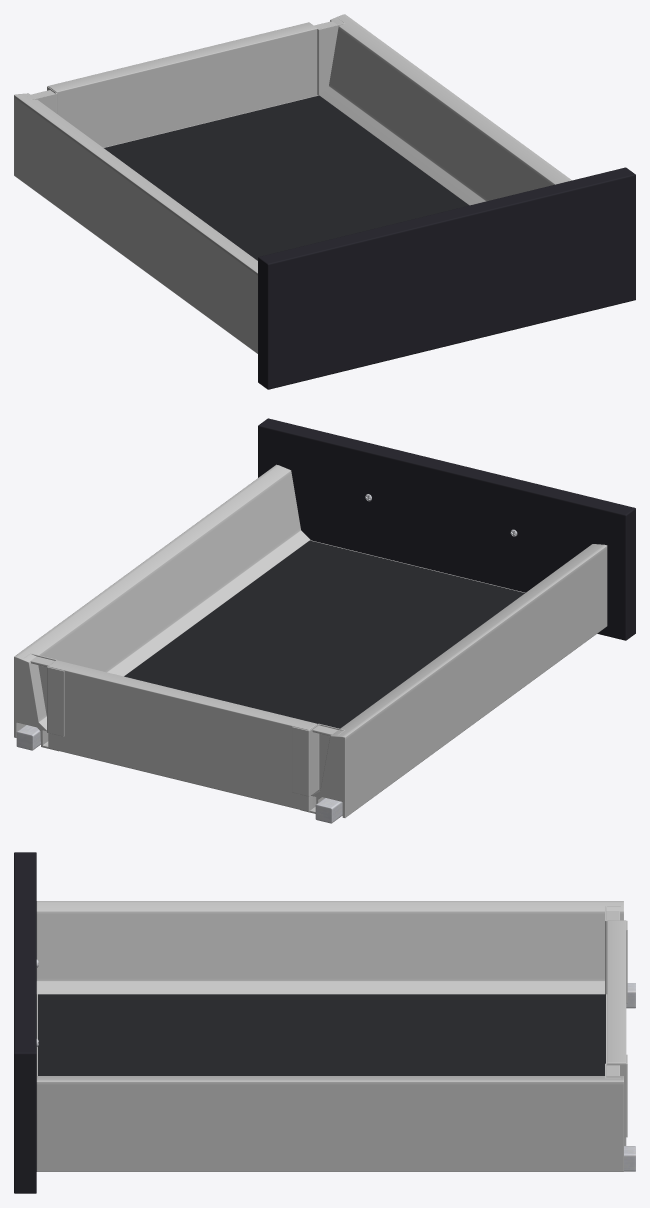
The model's file is SM_Kitchen_06_Drawer_01.dae.
The picture shows the model from 3 angles, top to bottom: view 1: azimuth 30°, elevation 25°; view 2: azimuth 150°, elevation 25°; view 3: azimuth 270°, elevation 25°; orthographic projection. The views are drawn at different scales.
Visible parts, largest first — view 1: SM_Kitchen_06_Base_Drawer_01; view 2: SM_Kitchen_06_Base_Drawer_01; view 3: SM_Kitchen_06_Base_Drawer_01.
Boxes of the visible parts, <box> form: SM_Kitchen_06_Base_Drawer_01: <box>14,14,635,389</box>; SM_Kitchen_06_Base_Drawer_01: <box>14,418,635,823</box>; SM_Kitchen_06_Base_Drawer_01: <box>14,852,635,1193</box>.
Size of the model in its own units: 0.398 by 0.5199 by 0.13.
